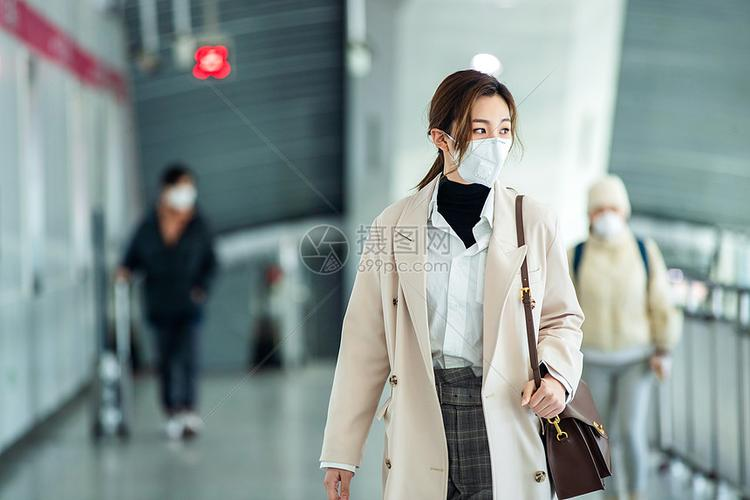mask: (447, 88, 515, 191)
